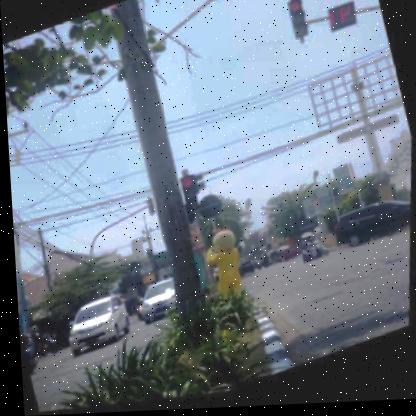Traffic Light -Red-: (283, 2, 315, 49), (179, 177, 205, 220)
